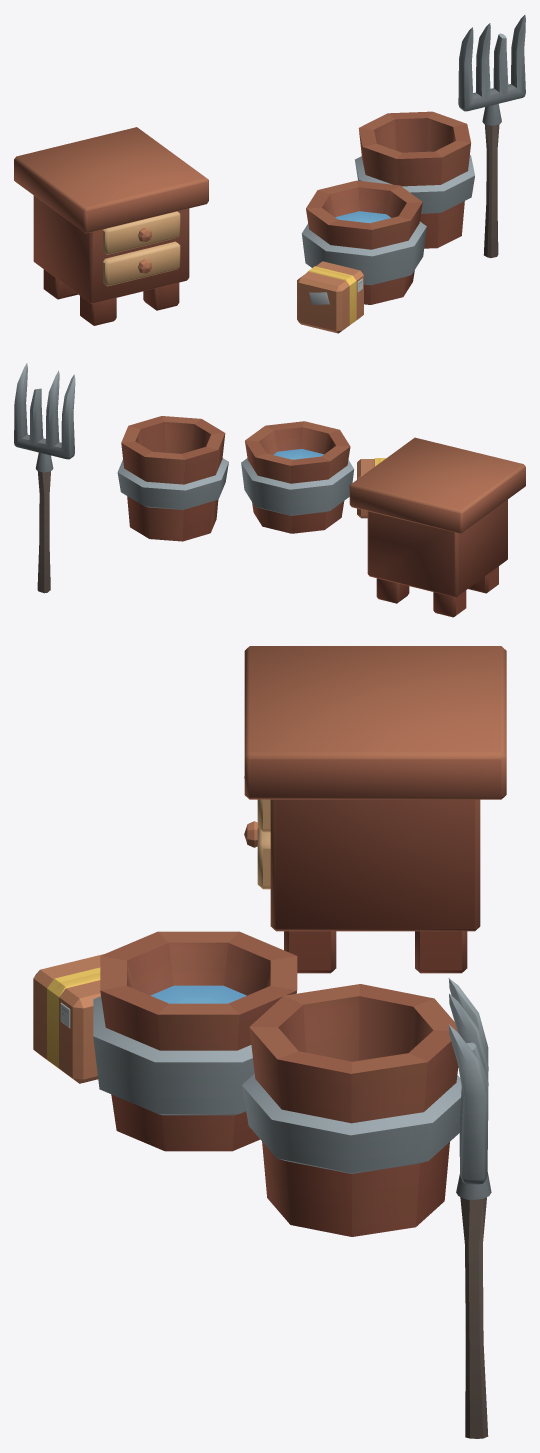
Rendered from bld_janitor_shed_2x1.glb.
3 renders of one model, top to bottom at view 1: azimuth 30°, elevation 25°; view 2: azimuth 150°, elevation 25°; view 3: azimuth 270°, elevation 25°, orthographic. The views are drawn at different scales.
Visible parts, largest first — view 1: cabinet_small, bucket_water, bucket_empty, pitchfork, Containers_Box_Small; view 2: cabinet_small, bucket_empty, bucket_water, pitchfork, Containers_Box_Small; view 3: cabinet_small, bucket_empty, bucket_water, pitchfork, Containers_Box_Small.
Part boxes in pixels (<box>): cabinet_small: <box>14,127,208,325</box>; bucket_water: <box>301,180,426,304</box>; bucket_empty: <box>355,111,474,248</box>; pitchfork: <box>458,15,525,257</box>; Containers_Box_Small: <box>297,261,363,333</box>; cabinet_small: <box>349,437,525,617</box>; bucket_empty: <box>117,416,228,541</box>; bucket_water: <box>241,421,354,533</box>; pitchfork: <box>14,363,75,593</box>; Containers_Box_Small: <box>357,458,385,518</box>; cabinet_small: <box>244,646,506,973</box>; bucket_empty: <box>242,984,461,1236</box>; bucket_water: <box>93,931,297,1151</box>; pitchfork: <box>448,978,491,1438</box>; Containers_Box_Small: <box>33,954,103,1083</box>.
Size of the model in its own units: 1.6 by 0.7389 by 0.7224.
Materials: 5 (5 with a texture image).
